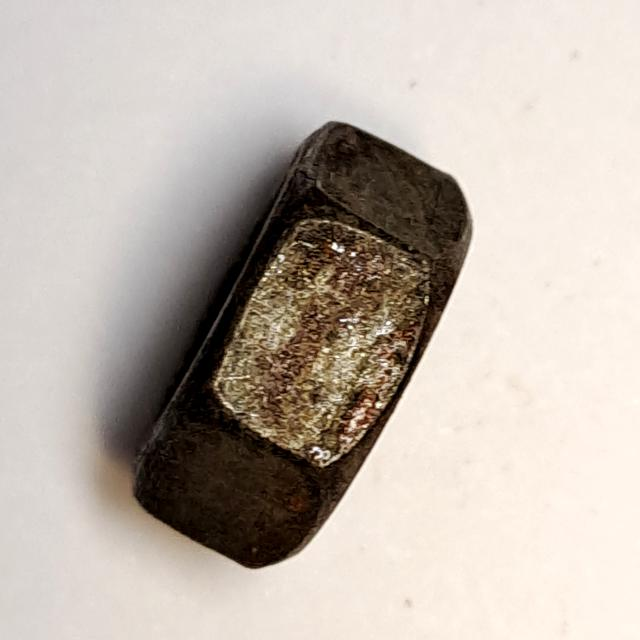Side_Rust: (117, 107, 486, 586)
